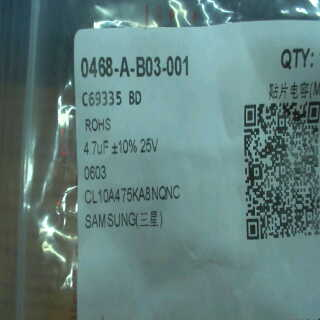4.7uF: (80, 136, 110, 157)
